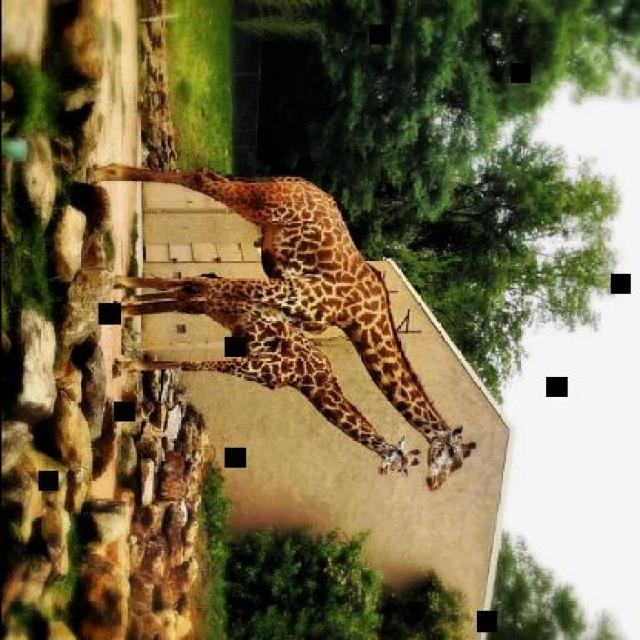unauthorized: (86, 160, 477, 491)
